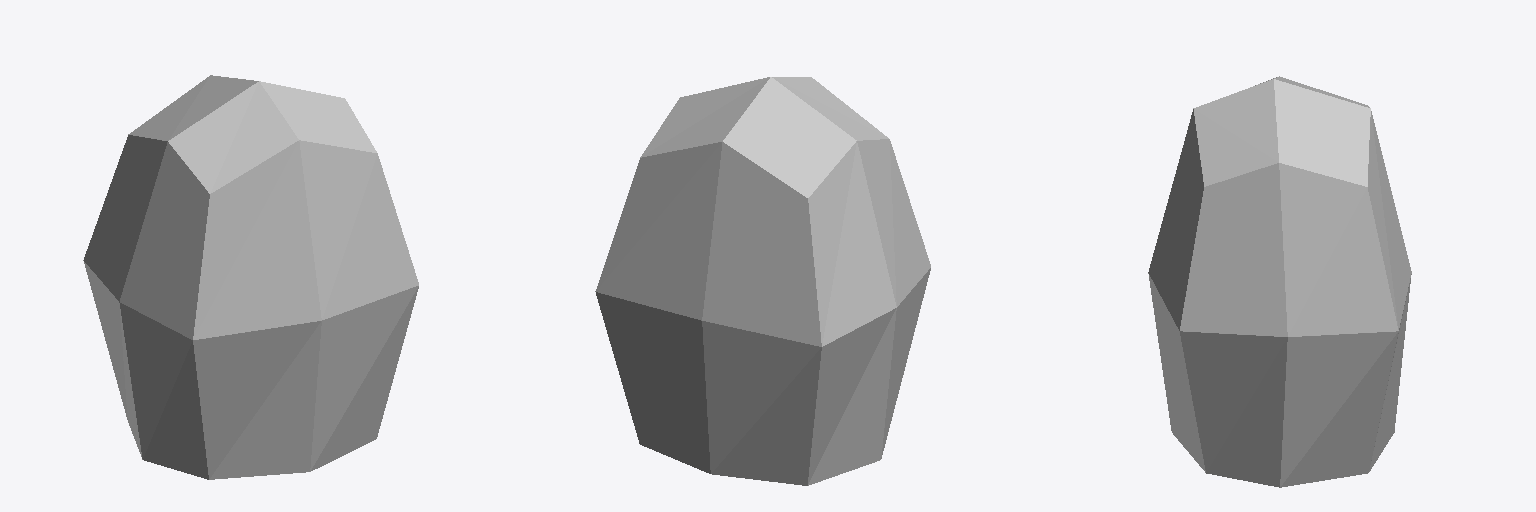
The model's file is roca4_low.obj.
3 renders of one model, left to right at view 1: azimuth 30°, elevation 25°; view 2: azimuth 150°, elevation 25°; view 3: azimuth 270°, elevation 25°, orthographic.
Parts seen in each view (by area): view 1: pCube1; view 2: pCube1; view 3: pCube1.
Boxes of the visible parts, x1,y1,x2,y2 form: pCube1: [83, 75, 418, 479]; pCube1: [595, 77, 930, 485]; pCube1: [1148, 76, 1411, 487].
Size of the model in its own units: 3.46 by 4.41 by 2.97.